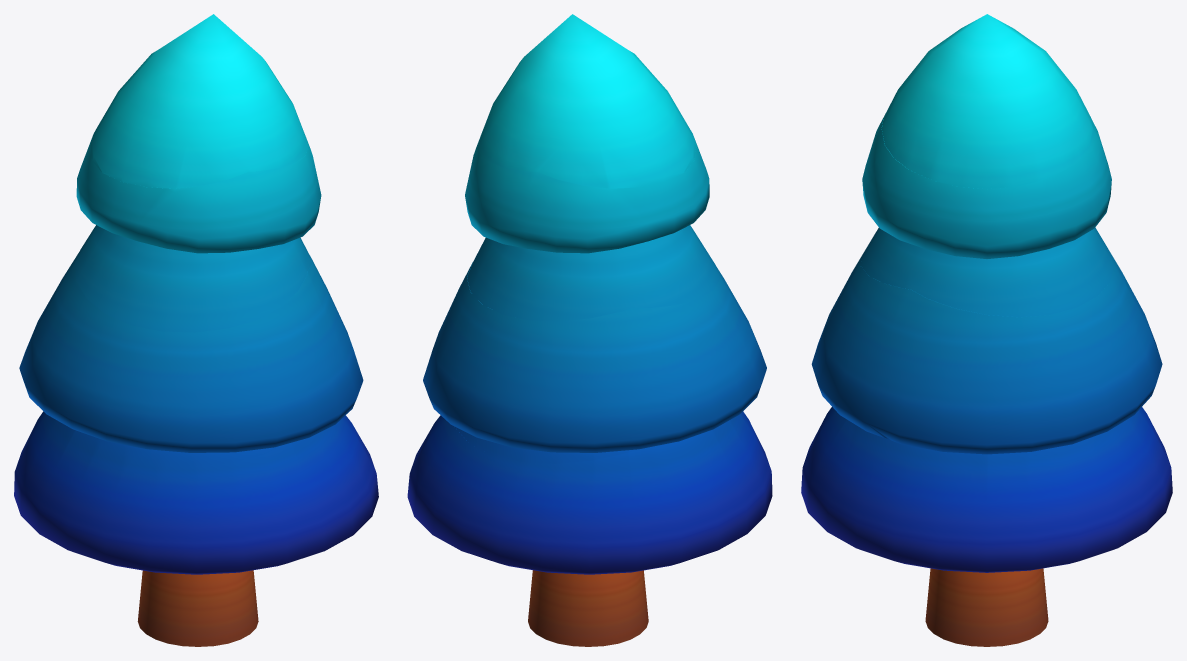
File: Yel_Tree_W.fbx
The picture shows the model from 3 angles, left to right: view 1: azimuth 30°, elevation 25°; view 2: azimuth 150°, elevation 25°; view 3: azimuth 270°, elevation 25°; orthographic projection.
Parts seen in each view (by area): view 1: Tree03, Tree02, Tree04, Tree05, Tree01; view 2: Tree03, Tree02, Tree04, Tree05, Tree01; view 3: Tree03, Tree02, Tree04, Tree05, Tree01.
Part boxes in pixels (box(x1,y1,x2,y2)): Tree03: box(19, 251, 363, 466); Tree02: box(14, 411, 378, 574); Tree04: box(75, 132, 321, 332); Tree05: box(90, 14, 308, 188); Tree01: box(137, 570, 258, 646); Tree03: box(423, 262, 766, 463); Tree02: box(407, 411, 772, 574); Tree04: box(465, 131, 719, 321); Tree05: box(477, 14, 696, 188); Tree01: box(528, 570, 648, 646); Tree03: box(811, 250, 1162, 455); Tree02: box(801, 407, 1172, 572); Tree04: box(860, 118, 1113, 317); Tree05: box(881, 14, 1092, 188); Tree01: box(925, 568, 1048, 646).
Size of the model in its own units: 106 by 107 by 195.
